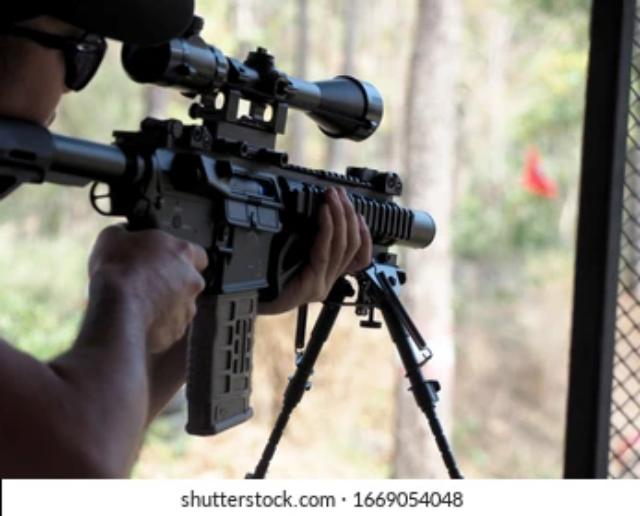other: (0, 1, 206, 474)
